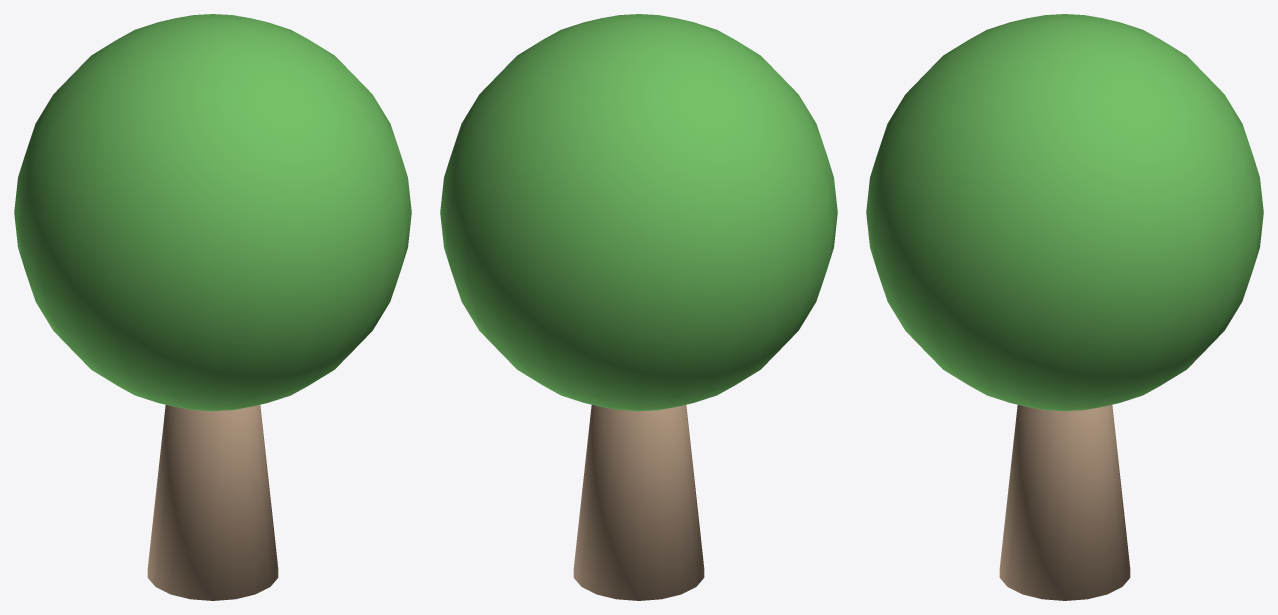
Rendered from tree.glb.
3 views of the same model, side by side, from view 1: azimuth 30°, elevation 25°; view 2: azimuth 150°, elevation 25°; view 3: azimuth 270°, elevation 25° (orthographic).
Parts seen in each view (by area): view 1: crown, trunk; view 2: crown, trunk; view 3: crown, trunk.
Boxes of the visible parts, box(x1,y1,x2,y2) form: crown: box(14, 14, 411, 411); trunk: box(147, 405, 278, 600); crown: box(440, 14, 837, 411); trunk: box(573, 405, 704, 600); crown: box(866, 14, 1263, 411); trunk: box(999, 405, 1130, 600).
Bounding box in the file's own units: 1.5 × 2.25 × 1.5.
